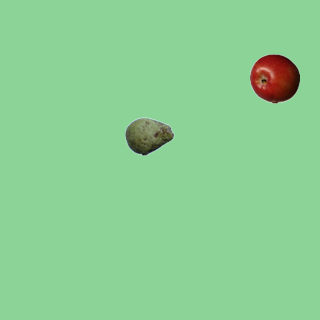Apple Braeburn: (249, 53, 299, 103)
Pear Stone: (124, 111, 174, 161)
